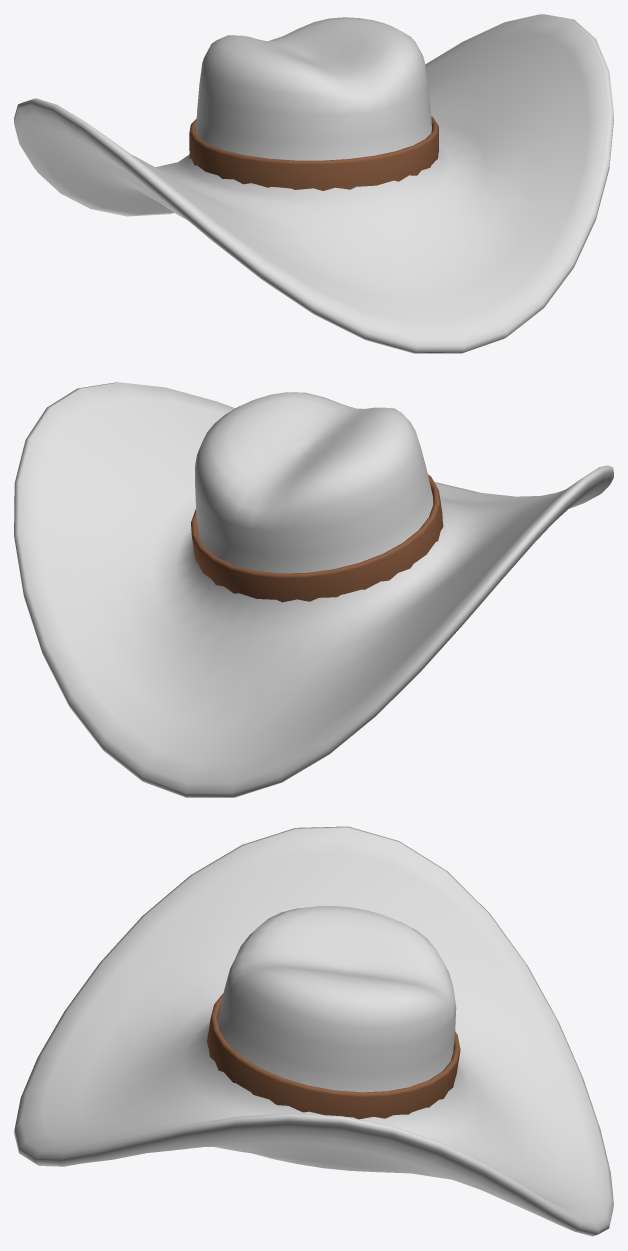
File: cowboy_hat.glb
3 views of the same model, one above another, from view 1: azimuth 30°, elevation 25°; view 2: azimuth 150°, elevation 25°; view 3: azimuth 270°, elevation 25° (orthographic).
Visible parts, largest first — view 1: cowboy_hat; view 2: cowboy_hat; view 3: cowboy_hat.
Part boxes in pixels (bbox=[...]): cowboy_hat: bbox=[14, 14, 613, 353]; cowboy_hat: bbox=[14, 382, 613, 797]; cowboy_hat: bbox=[14, 826, 613, 1236].
Bounding box in the file's own units: 1.47 × 0.7478 × 1.47.
